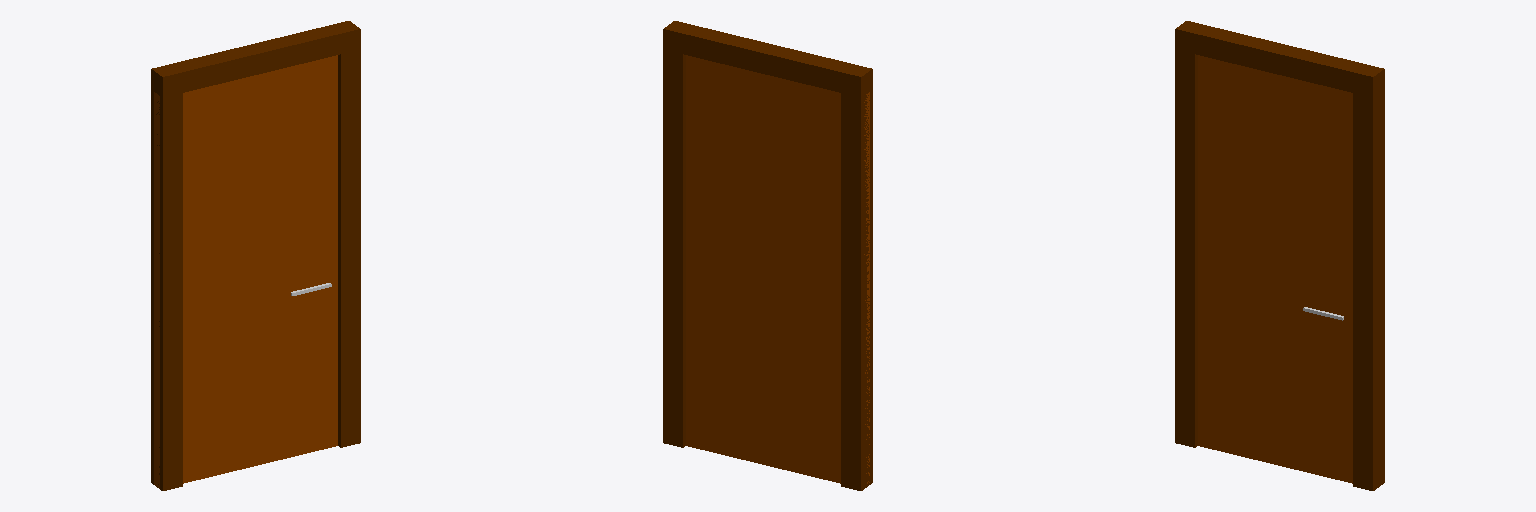
The robot description file, URDF, robot "urdf_sliding_door":
<?xml version="1.0" ?>
<robot name="urdf_sliding_door">
    <link name="world"/>
    <joint name="fixed" type="fixed">
        <parent link="world"/>
        <child link="doorFrameLink"/>
        <origin xyz="-0.5 0 0"/>
    </joint>

    <link name="doorFrameLink">
        <inertial>
            <origin rpy="0 0 0" xyz="0 0 0.35"/>
            <mass value="1.0"/>
            <inertia ixx="0.1" ixy="0" ixz="0" iyy="0.1" iyz="0" izz="0.1"/>
        </inertial>
        <visual>
            <origin rpy="0 0 0" xyz="0.05 0 1"/>
            <geometry>
                <box size="0.1 0.1 2"/>
            </geometry>
            <material name="framemat0">
                <color rgba="0.4 0.2 0.0 1" />
            </material>
        </visual>
        <visual>
            <origin rpy="0 0 0" xyz="0.95 0 1"/>
            <geometry>
                <box size="0.1 0.1 2"/>
            </geometry>
            <material name="framemat0"/>	 
        </visual>
        <visual>
            <origin rpy="0 0 0" xyz="0.5 0 1.95"/>
            <geometry>
                <box size="1 0.1 0.1"/>
            </geometry>
            <material name="framemat0"/>
        </visual>

        <collision>
            <origin rpy="0 0 0" xyz="0.05 0 1"/>
            <geometry>
                <box size="0.1 0.1 2"/>
            </geometry>
        </collision>
        <collision>
            <origin rpy="0 0 0" xyz="0.95 0 1"/>
            <geometry>
                <box size="0.1 0.1 2"/>
            </geometry>
        </collision>
        <collision>
             <origin rpy="0 0 0" xyz="0.5 0 0.95"/>
             <geometry>
                 <box size="1 0.1 0.1"/>
             </geometry>
        </collision>
        <collision>
             <origin rpy="0 0 0" xyz="0.5 0 0.05"/>
             <geometry>
                 <box size="1 0.1 0.1"/>
             </geometry>
        </collision>
    </link>
    
    <link name="doorLink">
        <inertial>
            <origin rpy="0 0 0" xyz="0.4 0 0.0"/>
            <mass value="1.0"/>
            <inertia ixx="0.048966669" ixy="0" ixz="0" iyy="0.046466667" iyz="0" izz="0.0041666669"/>
        </inertial>
        <visual>
            <origin rpy="0 0 0" xyz="0.4 0 0.0"/>
            <geometry>
                <box size="0.9  0.05 1.9"/>
            </geometry>
            <material name="doormat0">
                <color rgba="0.6 0.29 0.0 1" />
            </material>
        </visual>
        <collision>
            <origin rpy="0 0 0" xyz="0.4 0 0.0"/>
            <geometry>
                <box size="0.9  0.05 1.9"/>
            </geometry>
        </collision>
    </link>
    
    <joint name="joint_doorFrameLink_doorLink" type="prismatic">
        <parent link="doorFrameLink"/>
        <child link="doorLink"/>
        <dynamics damping="1.0" friction="0.0001"/>
        <origin xyz="0.05 0 0.95"/>
	<axis xyz="1 0 0"/>
	<limit lower="-2" upper="0.0" />
    </joint>
    
    <link name="handleLink">
        <inertial>
            <origin rpy="0 0 0" xyz="0 0 0"/>
            <mass value="0.1"/>
            <inertia ixx="0.001" ixy="0" ixz="0" iyy="0.001" iyz="0" izz="0.001"/>
        </inertial>
        <visual>
            <origin rpy="0 0 0" xyz="0 0 0"/>
            <geometry>
                <box size="0.015 0.015 0.2"/>
            </geometry>
            <material name="handle_matreial">
                <color rgba="0.87 0.87 0.87 0.8" />
            </material>
        </visual>
        <collision>
            <origin rpy="0 0 0" xyz="0 0 0"/>
            <geometry>
                <box size="0.015 0.015 0.2"/>
            </geometry>
        </collision>
    </link>

    <joint name="handle_joint" type="fixed">
        <parent link="doorLink"/>
        <child link="handleLink"/>
        <origin xyz="0.7 -0.05 -0.15" rpy="4.7124 0 -1.5708"/>
        <axis xyz="1 0 0"/>
    </joint>
    
    <link name="door_handle_dummy_link">
        <!-- This dummy link is added s.t. the handle is the parent of some link and we can find the handle's index. -->
        <inertial>
            <origin rpy="0 0 0" xyz="0 0 0"/>
            <mass value="0.1"/>
            <inertia ixx="1" ixy="0" ixz="0" iyy="1" iyz="0" izz="1"/>
        </inertial>
    </link>
    
    <joint name="door_handle_dummy_joint" type="fixed">
        <origin xyz="0 0 0" rpy="0 0 0"/>
        <parent link="handleLink"/>
        <child link="door_handle_dummy_link"/>
    </joint>
    
</robot>

--- What the picture shows (computed from the rendered views, not written in the file) ---
3 views of the same robot in one strip: view 1: azimuth 30°, elevation 25°; view 2: azimuth 150°, elevation 25°; view 3: azimuth 330°, elevation 25° (orthographic).
Model urdf_sliding_door with 5 links and 4 joints (1 prismatic, 3 fixed), rooted at world, posed every joint at zero.
Visible links, largest first — view 1: doorLink, doorFrameLink; view 2: doorLink, doorFrameLink; view 3: doorLink, doorFrameLink.
Link boxes in pixels (left/top/right/bottom): doorLink: left=154, top=55, right=337, bottom=488; doorFrameLink: left=151, top=21, right=360, bottom=490; doorLink: left=686, top=55, right=869, bottom=483; doorFrameLink: left=663, top=21, right=872, bottom=490; doorLink: left=1198, top=55, right=1352, bottom=483; doorFrameLink: left=1175, top=21, right=1384, bottom=490.
Bounding box of the posed robot: 1 × 0.1075 × 2 m (x, y, z).
Geometry: primitives only (box / cylinder / sphere), no mesh files.